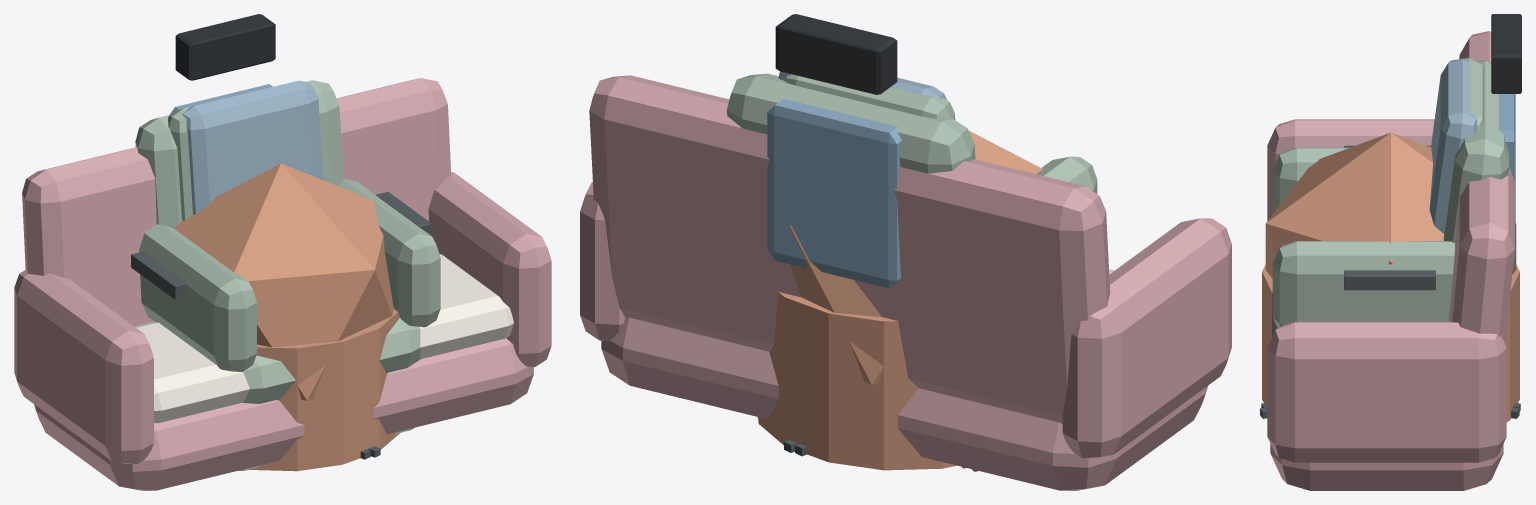
Rendered from seating.glb.
3 renders of one model, left to right at view 1: azimuth 30°, elevation 25°; view 2: azimuth 150°, elevation 25°; view 3: azimuth 270°, elevation 25°, orthographic. The views are drawn at different scales.
Parts seen in each view (by area): view 1: HF_Sofa_TwoSeat, HF_BeanBag, HF_Chair_Lounge, HF_Pouf, HF_Chair_Visitor, HF_GamingChair, HF_Chair_Task; view 2: HF_Sofa_TwoSeat, HF_GamingChair, HF_Pouf, HF_Chair_Lounge, HF_BeanBag, HF_Chair_Task; view 3: HF_Sofa_TwoSeat, HF_Chair_Lounge, HF_BeanBag, HF_GamingChair, HF_Chair_Visitor, HF_Pouf, HF_Chair_Task.
Part boxes in pixels (bbox=[...]): HF_Sofa_TwoSeat: bbox=[14, 78, 551, 490]; HF_BeanBag: bbox=[174, 163, 393, 401]; HF_Chair_Lounge: bbox=[135, 80, 440, 403]; HF_Pouf: bbox=[249, 309, 399, 471]; HF_Chair_Visitor: bbox=[182, 80, 323, 214]; HF_GamingChair: bbox=[131, 14, 432, 457]; HF_Chair_Task: bbox=[168, 106, 192, 220]; HF_Sofa_TwoSeat: bbox=[580, 75, 1231, 490]; HF_GamingChair: bbox=[767, 14, 965, 468]; HF_Pouf: bbox=[757, 292, 956, 470]; HF_Chair_Lounge: bbox=[727, 73, 1097, 193]; HF_BeanBag: bbox=[789, 131, 1042, 385]; HF_Chair_Task: bbox=[785, 74, 955, 119]; HF_Sofa_TwoSeat: bbox=[1267, 31, 1514, 490]; HF_Chair_Lounge: bbox=[1272, 60, 1509, 335]; HF_BeanBag: bbox=[1265, 132, 1516, 278]; HF_GamingChair: bbox=[1260, 14, 1521, 418]; HF_Chair_Visitor: bbox=[1429, 58, 1477, 233]; HF_Pouf: bbox=[1262, 264, 1519, 421]; HF_Chair_Task: bbox=[1463, 57, 1483, 129].
Size of the model in its own units: 1.74 by 1.31 by 0.853.
